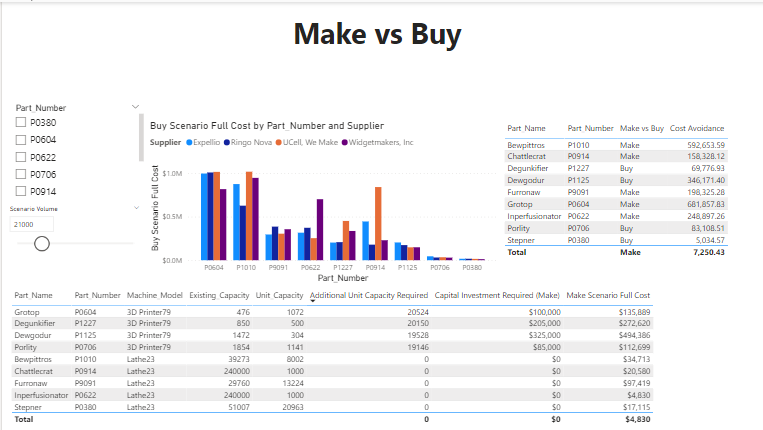

The dashboard page shown, as its layout file describes it:
{"tool":"powerbi","page":{"name":"Make VS Buy Analysis","canvas":[1280,720],"ordinal":2},"visuals":[{"type":"slicer","fields":{"Values":["Scenario Volume.Scenario Volume"]},"box":[0,335.9,243.6,141.1],"z":0},{"type":"tableEx","fields":{"Values":["Product_Dimension.Part_Name","Product_Dimension.Part_Number","Internal_Mfg_Resource_Estimates.Machine_Model","Internal_Mfg_Resource_Estimates.Existing_Capacity","Internal_Mfg_Resource_Estimates.Unit_Capacity","Internal_Mfg_Resource_Estimates.Additional Unit Capacity Required","Internal_Mfg_Resource_Estimates.Capital Investment Required (Make)","Internal_Mfg_Resource_Estimates.Make Scenario Full Cost","Scenario Volume.Buy Scenario Full Cost"]},"box":[10.1,477.1,1253.1,243.6],"z":1000},{"type":"textbox","box":[10.1,13.4,1253.1,85.7],"z":2000},{"type":"slicer","fields":{"Values":["Quotes.Part_Number"]},"box":[10.1,164.6,233.5,173],"z":3000},{"type":"tableEx","fields":{"Values":["Product_Dimension.Part_Name","Product_Dimension.Part_Number","Scenario Volume.Make vs Buy","Scenario Volume.Cost Avoidance"]},"box":[838.2,196.5,425,280.5],"z":4000},{"type":"clusteredColumnChart","fields":{"Y":["Scenario Volume.Buy Scenario Full Cost"],"Category":["Quotes.Part_Number"],"Series":["Quotes.Supplier"]},"box":[243.6,196.5,594.6,280.5],"z":4001}]}

Visuals, with their boxes in screenshot pixels (x1, y1, x2, y2), scaled from the page's 1280x720 canvas onto the 763x430 screenshot:
slicer - Scenario Volume.Scenario Volume: 0,201,145,285
tableEx - Product_Dimension.Part_Name x Product_Dimension.Part_Number: 6,285,753,429
textbox: 6,8,753,59
slicer - Quotes.Part_Number: 6,98,145,202
tableEx - Product_Dimension.Part_Name x Product_Dimension.Part_Number: 500,117,753,285
clusteredColumnChart - Scenario Volume.Buy Scenario Full Cost x Quotes.Part_Number: 145,117,500,285
